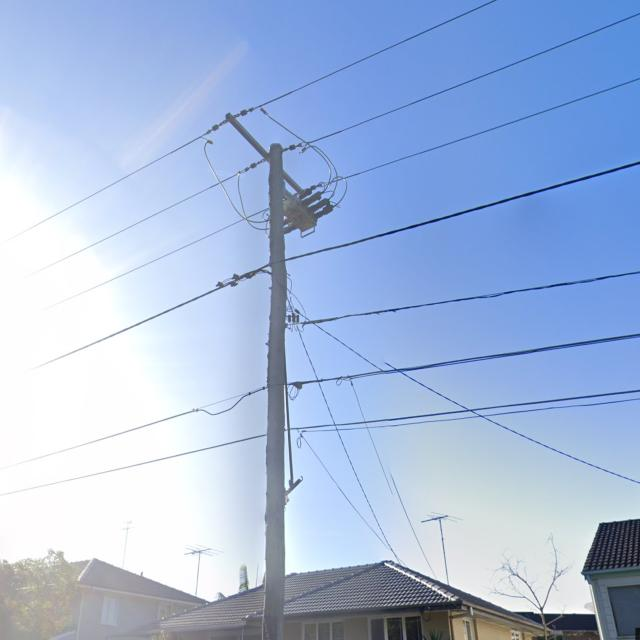HV-switch: (282, 184, 337, 236)
HV-transmission: (210, 108, 316, 194)
crossarm: (224, 113, 304, 196)
timber-pole: (260, 143, 286, 640)
